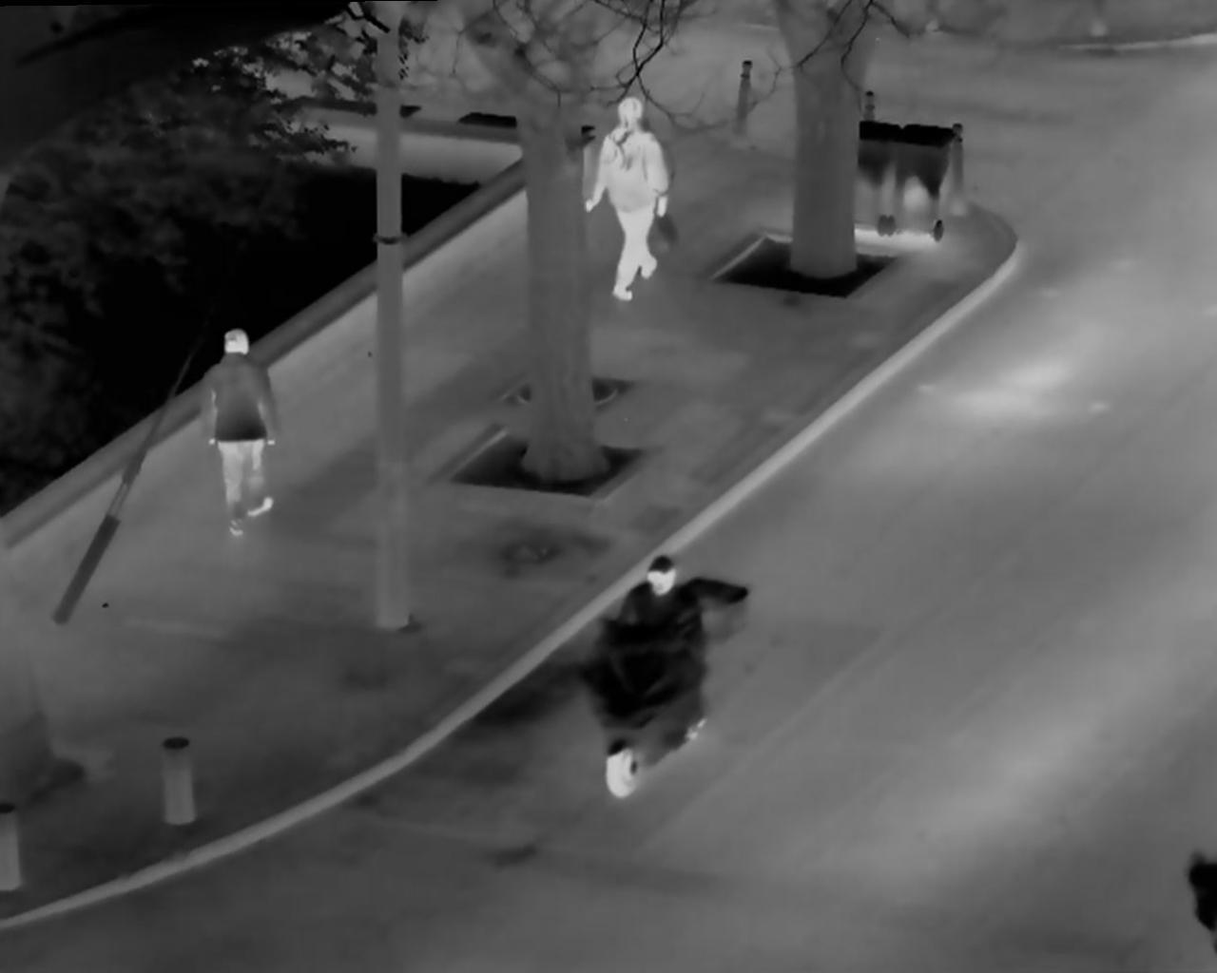person: (187, 313, 299, 547), (601, 542, 709, 773), (589, 83, 678, 316)
